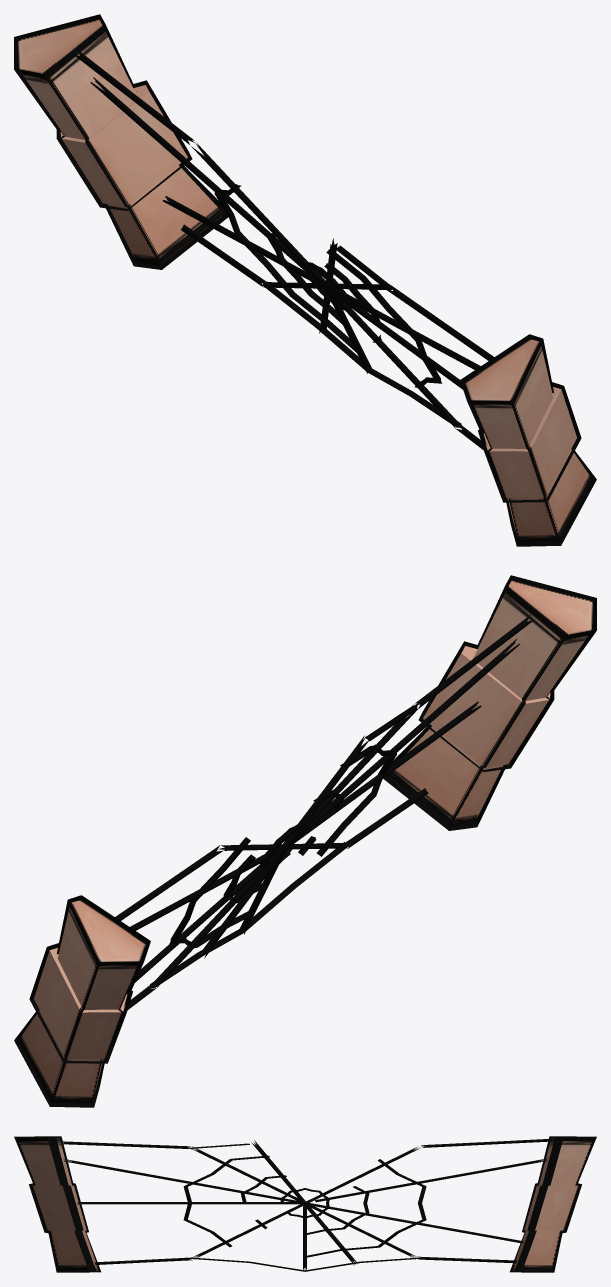
The model's file is bouncy_wall_state2.FBX.
3 views of the same model, one above another, from view 1: azimuth 30°, elevation 25°; view 2: azimuth 150°, elevation 25°; view 3: azimuth 270°, elevation 25° (orthographic). The views are drawn at different scales.
Visible parts, largest first — view 1: Torus008, Box104; view 2: Torus008, Box104; view 3: Torus008, Box104.
Boxes of the visible parts, x1,y1,x2,y2 form: Torus008: [17, 19, 592, 542]; Box104: [14, 14, 596, 546]; Torus008: [18, 580, 593, 1103]; Box104: [14, 575, 596, 1107]; Torus008: [16, 1138, 594, 1271]; Box104: [14, 1136, 596, 1272].
Bounding box in the file's own units: 0.4285 × 0.5545 × 2.17.
2 materials, 1 textured.
